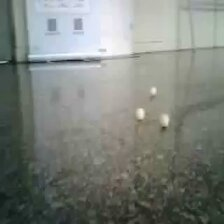w: (135, 107, 147, 120), (159, 115, 169, 126), (150, 87, 157, 96)
